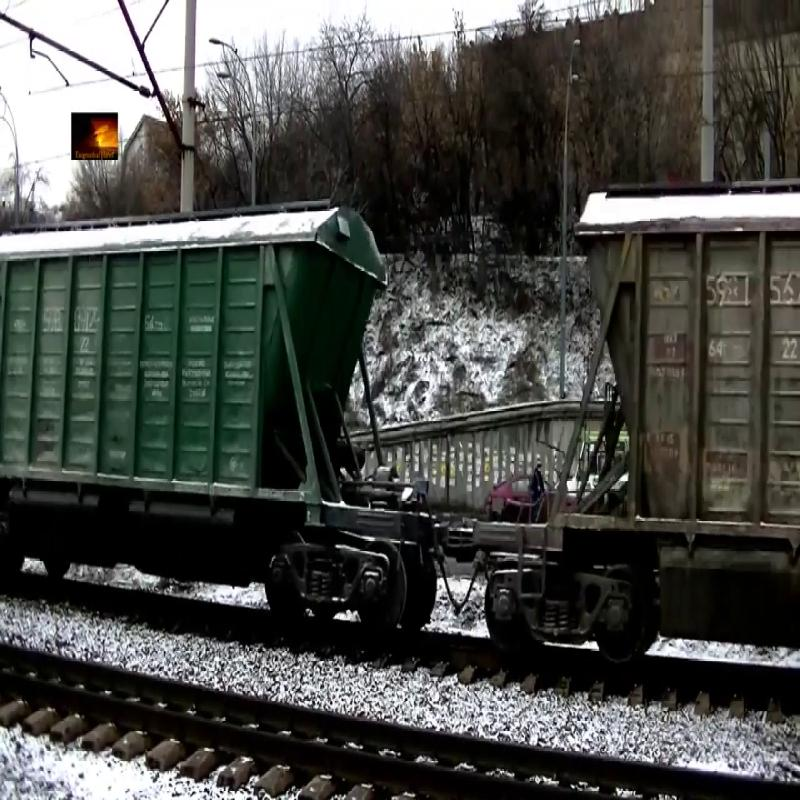train: (3, 192, 391, 538), (541, 175, 800, 585)
